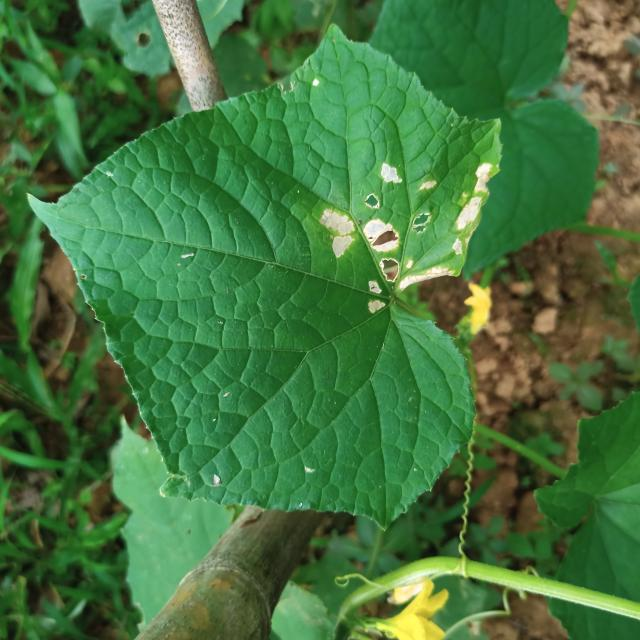disease_cucumber: (320, 163, 489, 317)
